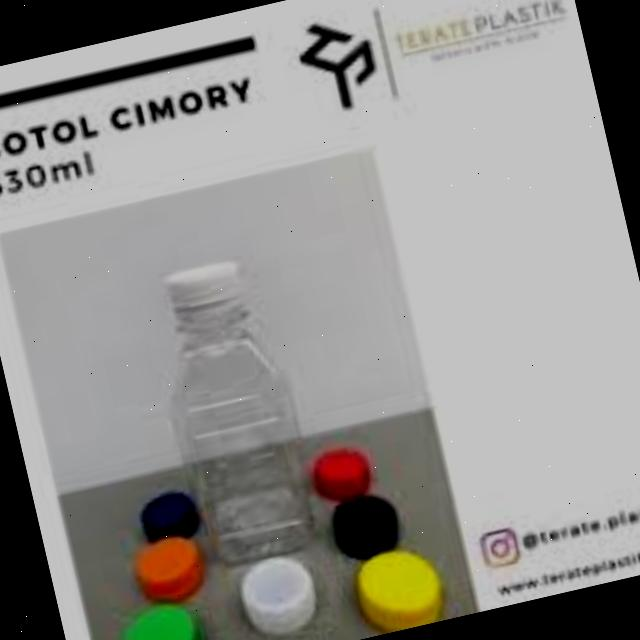trash: (138, 248, 336, 584)
